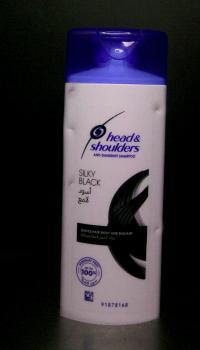dent_unacceptable: (150, 102, 165, 120), (64, 84, 79, 100), (66, 122, 80, 138), (65, 176, 78, 193), (152, 220, 162, 237)
